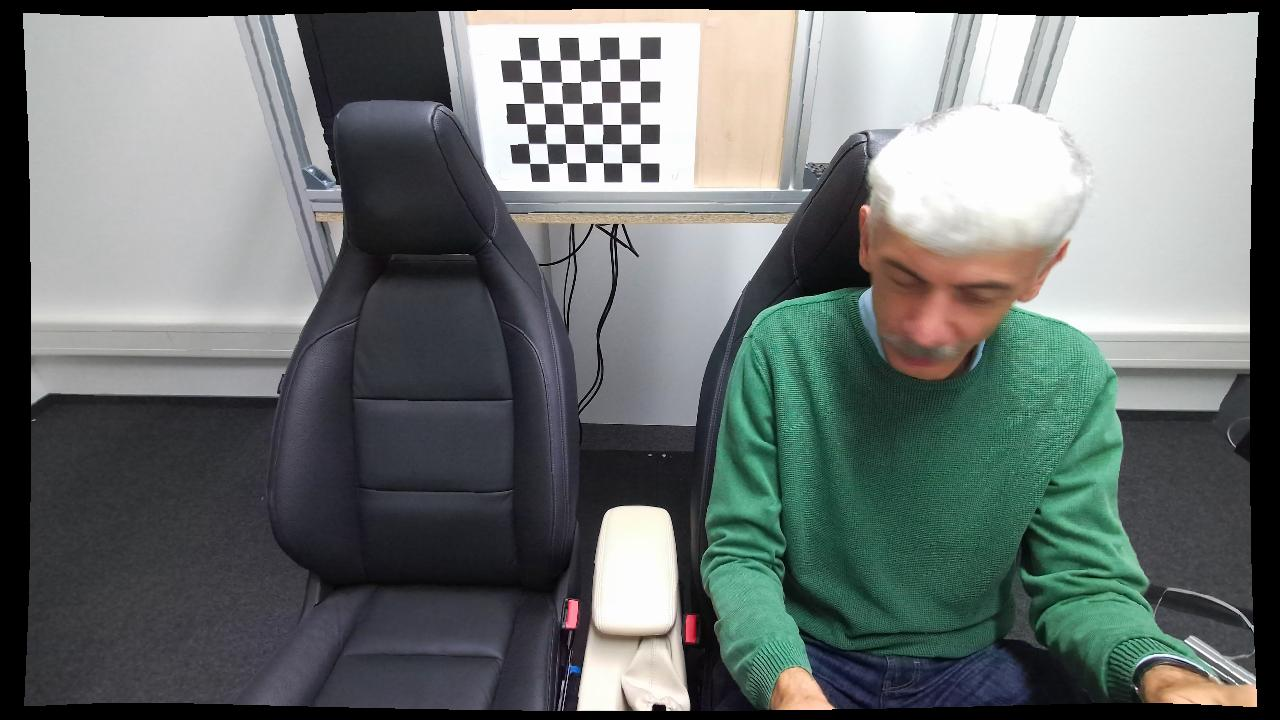Distracted: (700, 101, 1176, 712)
